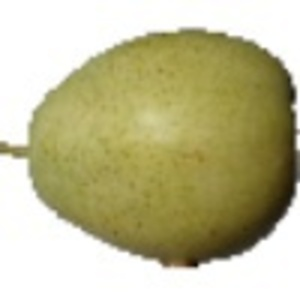pera: (1, 1, 300, 272)
